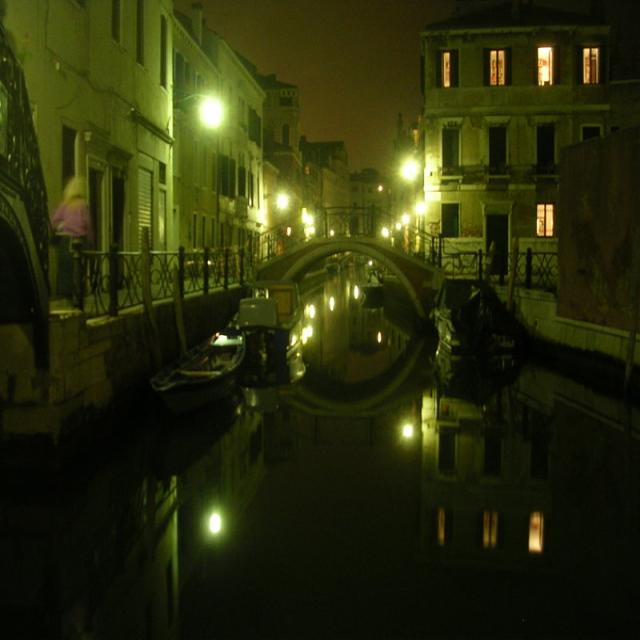Boat: (134, 262, 308, 448), (426, 255, 541, 408)
